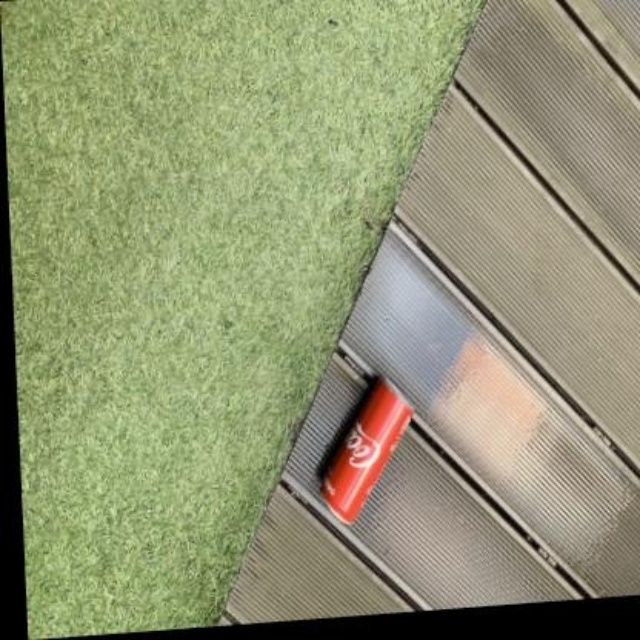trash: (320, 378, 411, 522)
